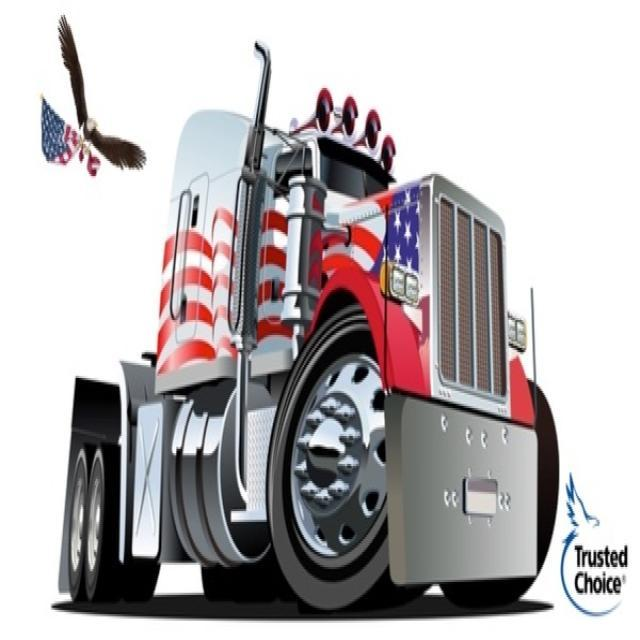traffic light: (55, 38, 559, 612)
